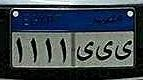1: (13, 35, 25, 64), (42, 36, 53, 64), (28, 36, 39, 64), (58, 36, 68, 63)
yaa: (114, 39, 133, 63), (76, 40, 94, 65), (94, 40, 113, 62)
